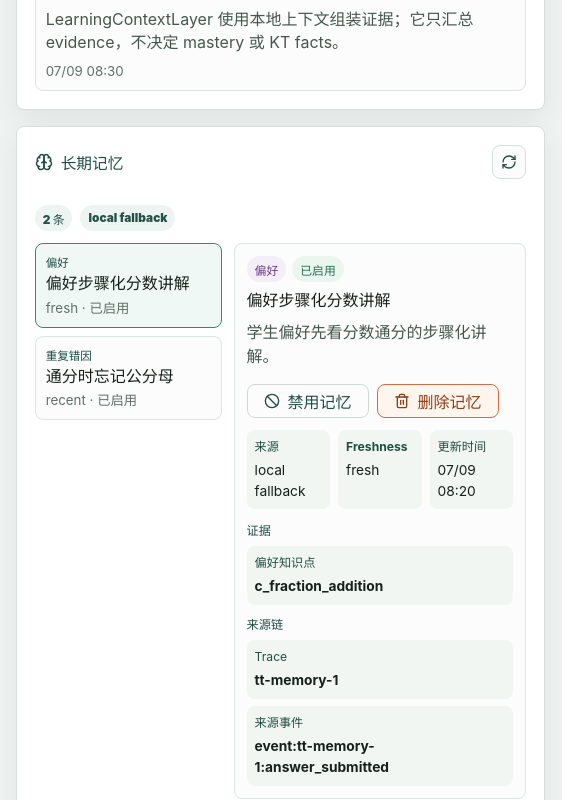
Scenario: 学习驾驶舱 › 删除长期记忆失败时保留列表并展示失败状态
(page scrolled)
Expected: the text "偏好步骤化分数讲解" is shown, [46, 273, 210, 295]
Click the button "删除记忆".
click(438, 401)  # box [377, 384, 499, 418]
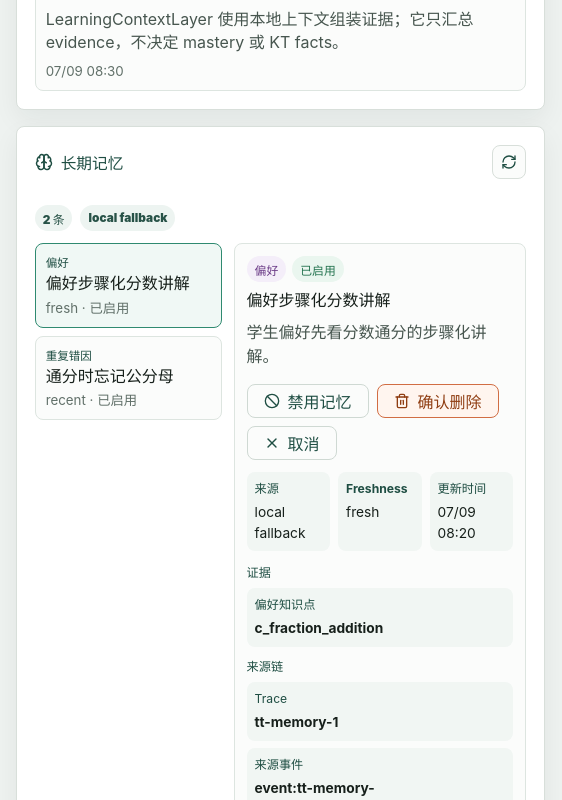
Click the button "确认删除".
click(438, 401)  # box [377, 384, 499, 418]
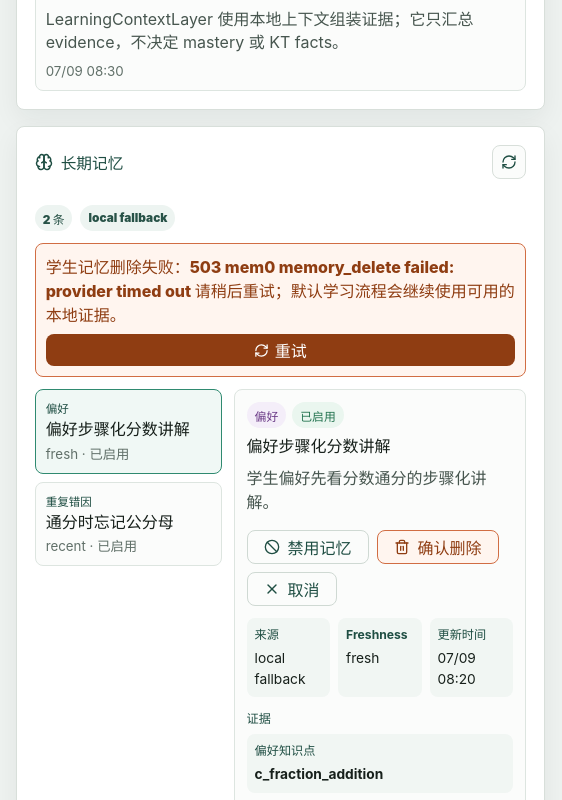
Expected: the text "偏好步骤化分数讲解" is shown, [46, 419, 210, 441]
Expected: the text "默认学习流程会继续使用可用的本地证据" is shown, [46, 257, 515, 325]
